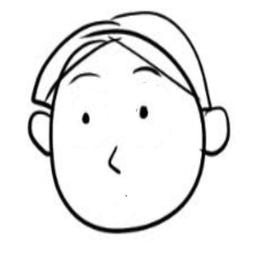ear: (27, 107, 58, 159), (207, 104, 234, 159)
eyebrow: (70, 68, 104, 86), (129, 65, 163, 79)
pointy_nose: (102, 140, 126, 177)
small_eye: (136, 105, 151, 121), (78, 110, 92, 127)
